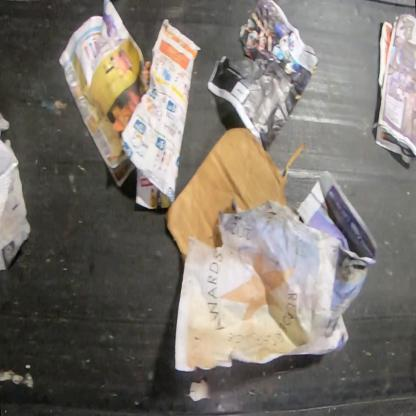cardboard: (167, 127, 306, 263)
